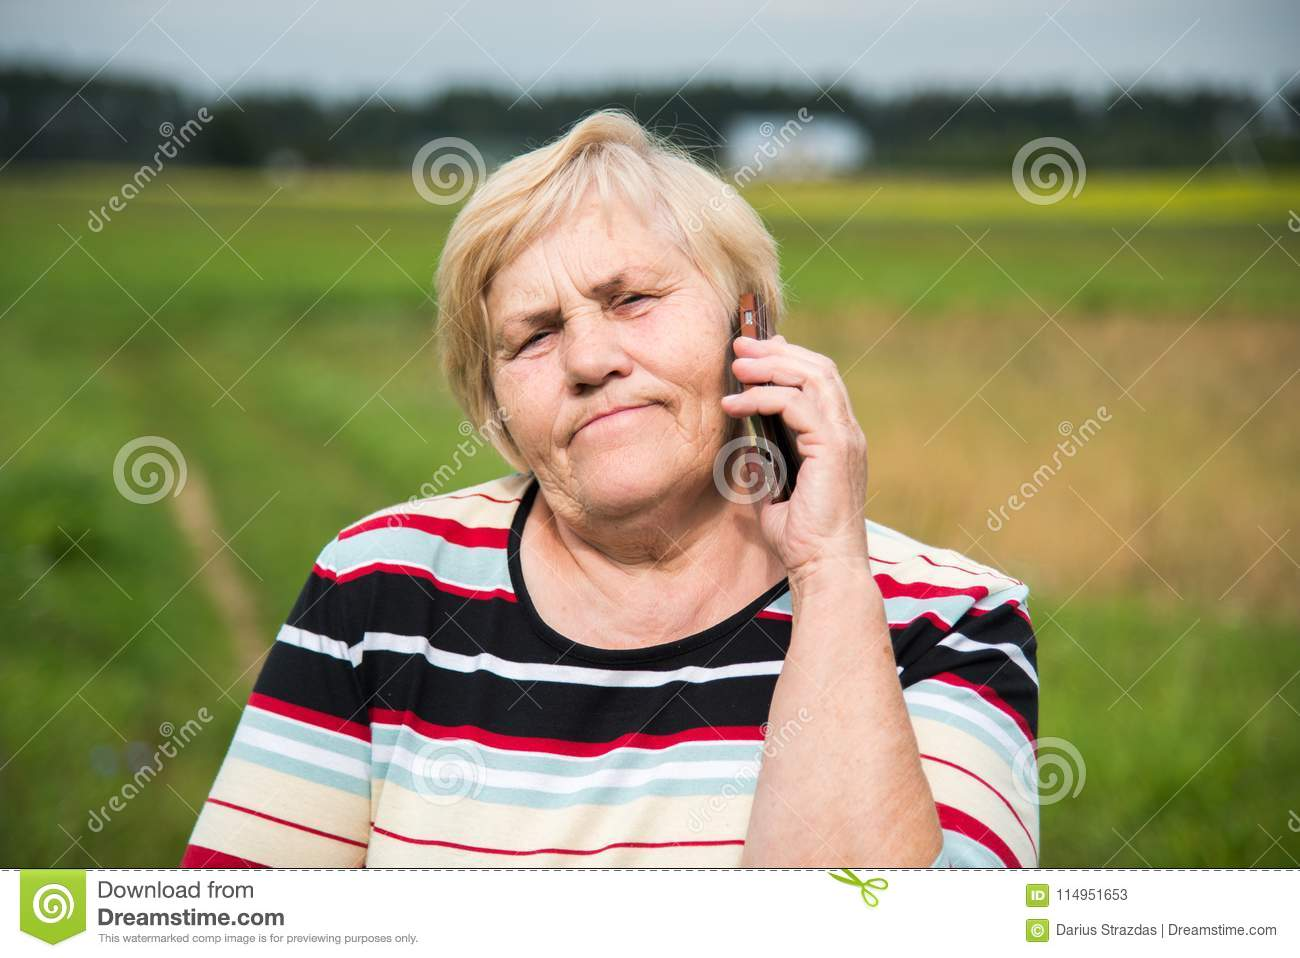phone: (728, 284, 803, 514)
talk: (489, 251, 873, 605)
